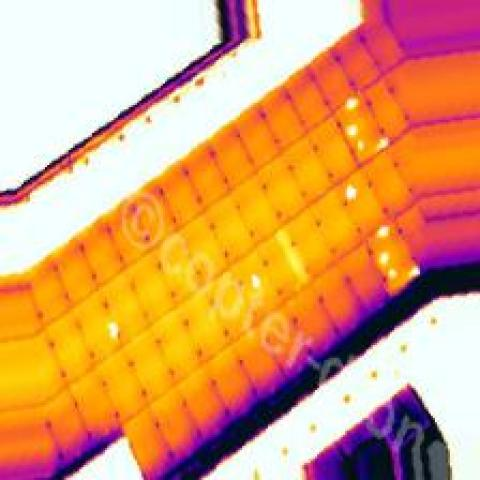fault: (341, 182, 360, 204), (341, 94, 362, 111), (105, 321, 122, 341), (248, 272, 264, 292), (375, 223, 392, 240), (375, 250, 392, 266), (375, 133, 390, 150), (343, 120, 358, 135), (405, 264, 420, 278), (352, 137, 366, 150), (386, 266, 398, 280)
